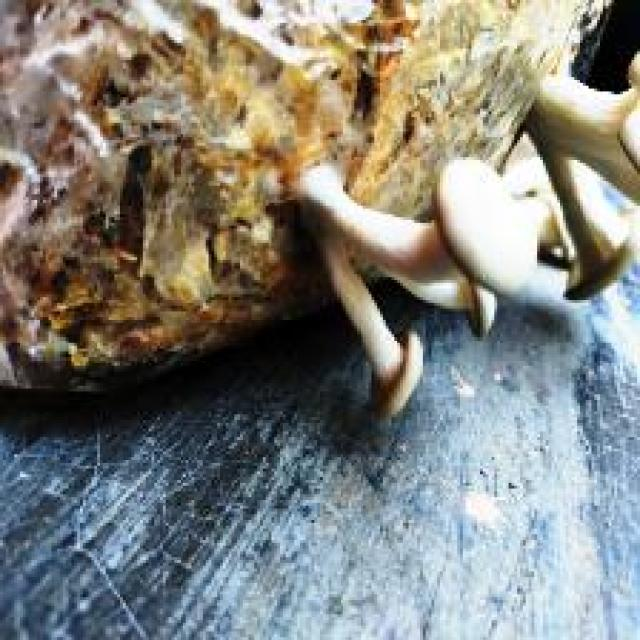chanterelle: (0, 0, 637, 409)
